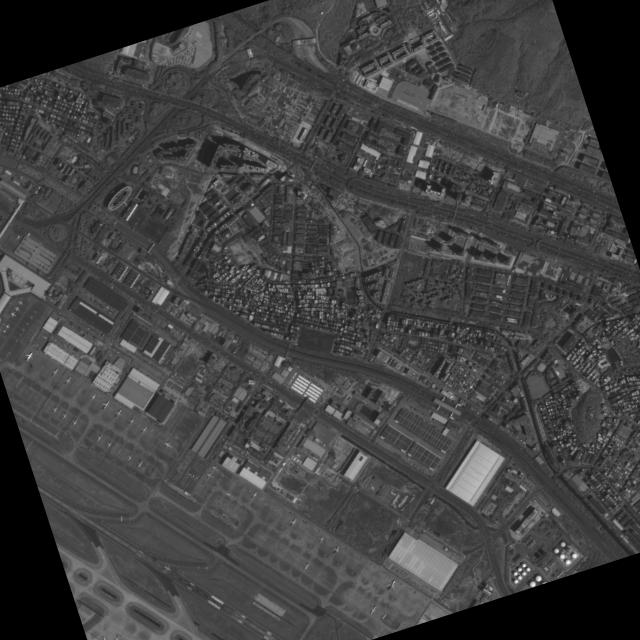plane: (383, 577, 399, 594), (99, 398, 114, 413), (22, 349, 37, 364), (330, 543, 343, 557), (287, 516, 300, 529), (112, 407, 125, 420), (62, 374, 75, 387), (49, 366, 62, 379), (368, 604, 379, 616), (209, 463, 221, 474), (249, 490, 260, 501), (224, 489, 235, 500), (204, 470, 215, 481), (135, 458, 146, 469), (94, 432, 105, 443), (162, 563, 173, 573), (60, 410, 71, 420), (301, 561, 312, 571), (163, 440, 173, 450), (125, 452, 135, 462), (105, 439, 115, 449), (89, 392, 99, 402), (71, 417, 80, 427), (140, 425, 149, 435), (368, 483, 377, 492), (317, 535, 326, 544), (51, 405, 60, 414), (127, 417, 135, 426), (9, 310, 18, 318), (113, 633, 123, 640), (4, 323, 12, 330), (17, 299, 24, 306), (14, 305, 21, 312), (99, 635, 108, 640), (2, 328, 8, 335)
storage-tank: (534, 574, 543, 583), (571, 552, 579, 560), (529, 580, 537, 588), (565, 558, 572, 566), (559, 553, 566, 560), (560, 541, 567, 548), (553, 547, 560, 554), (513, 578, 520, 585), (566, 547, 572, 553), (521, 571, 527, 577), (513, 571, 519, 577), (518, 575, 523, 581), (526, 567, 532, 572), (522, 562, 527, 568), (517, 567, 523, 572)
